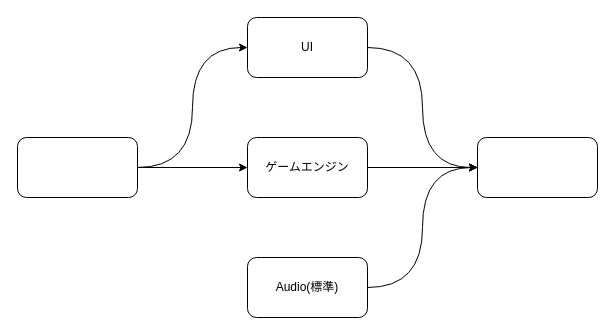
The diagram is 615 pixels wide and 335 high, and some of its shapes have lost their labels. The shapes that lost their labels are listed below. From the top down, each one's centre as x and y in pixels, then its label:
At pixel 77 167: "WebGL".
At pixel 537 167: "ゲーム".
